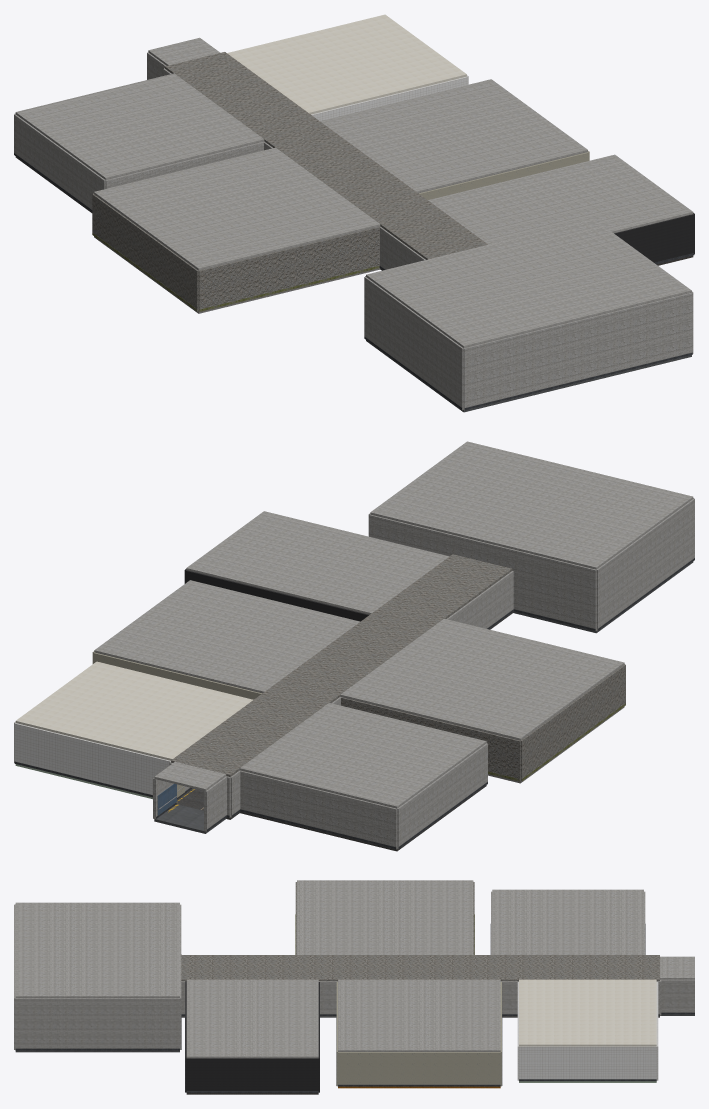
File: expansion-equipped.glb
3 renders of one model, top to bottom at view 1: azimuth 30°, elevation 25°; view 2: azimuth 150°, elevation 25°; view 3: azimuth 270°, elevation 25°, orthographic. The views are drawn at different scales.
Parts seen in each view (by area): view 1: Wing 11 | board-form, Wing 09 | board-form, Wing 07 | board-form, Wing 08 | board-form, Wing 06 | ivory-fiberglass, Wing 10 | board-form, Wing 09 | coarse-shotcrete, Wing Hall 1 | coarse-shotcrete, Wing Hall 0 | coarse-shotcrete, Wing Hall 2 | coarse-shotcrete, Wing Hall 3 | coarse-shotcrete, Wing 10 | acoustic-mesh (+8 smaller); view 2: Wing 11 | board-form, Wing 07 | board-form, Wing 09 | board-form, Wing 08 | board-form, Wing 10 | board-form, Wing 06 | ivory-fiberglass, Wing 09 | coarse-shotcrete, Wing 06 | porcelain-tile, Wing Hall 3 | coarse-shotcrete, Wing Hall 0 | coarse-shotcrete, Wing Hall 1 | coarse-shotcrete, Wing Hall 2 | coarse-shotcrete (+6 smaller); view 3: Wing 11 | board-form, Wing 09 | board-form, Wing 08 | board-form, Wing 10 | board-form, Wing 07 | board-form, Wing 06 | ivory-fiberglass, Wing 08 | pebble-paint, Wing 06 | porcelain-tile, Wing 10 | acoustic-mesh, Wing Hall 2 | coarse-shotcrete, Wing Hall 1 | coarse-shotcrete, Wing Hall 0 | coarse-shotcrete (+9 smaller).
Boxes of the visible parts, x1,y1,x2,y2 form: Wing 11 | board-form: (364,219,693,410); Wing 09 | board-form: (94,147,380,270); Wing 07 | board-form: (14,73,264,209); Wing 08 | board-form: (320,79,587,193); Wing 06 | ivory-fiberglass: (227,14,466,114); Wing 10 | board-form: (428,154,693,244); Wing 09 | coarse-shotcrete: (92,193,380,311); Wing Hall 1 | coarse-shotcrete: (236,104,366,170); Wing Hall 0 | coarse-shotcrete: (165,52,295,118); Wing Hall 2 | coarse-shotcrete: (307,156,438,222); Wing Hall 3 | coarse-shotcrete: (379,208,487,259); Wing 10 | acoustic-mesh: (614,213,694,262); Wing 11 | board-form: (368,441,694,630); Wing 07 | board-form: (239,703,487,849); Wing 09 | board-form: (340,618,624,740); Wing 08 | board-form: (94,580,359,693); Wing 10 | board-form: (186,511,449,614); Wing 06 | ivory-fiberglass: (15,661,253,760); Wing 09 | coarse-shotcrete: (341,664,625,781); Wing 06 | porcelain-tile: (14,722,170,794); Wing Hall 3 | coarse-shotcrete: (383,554,512,619); Wing Hall 0 | coarse-shotcrete: (171,709,300,776); Wing Hall 1 | coarse-shotcrete: (242,657,371,722); Wing Hall 2 | coarse-shotcrete: (313,605,441,671); Wing 11 | board-form: (14,902,181,1050); Wing 09 | board-form: (297,880,473,954); Wing 08 | board-form: (338,979,500,1051); Wing 10 | board-form: (186,979,318,1058); Wing 07 | board-form: (491,889,645,954); Wing 06 | ivory-fiberglass: (519,979,656,1046); Wing 08 | pebble-paint: (336,982,501,1086); Wing 06 | porcelain-tile: (517,982,658,1080); Wing 10 | acoustic-mesh: (185,981,319,1092); Wing Hall 2 | coarse-shotcrete: (300,955,419,981); Wing Hall 1 | coarse-shotcrete: (420,955,539,981); Wing Hall 0 | coarse-shotcrete: (540,955,659,981).
Bounding box in the file's own units: 47.75 × 7 × 77.42.
89 materials, 89 textured.
